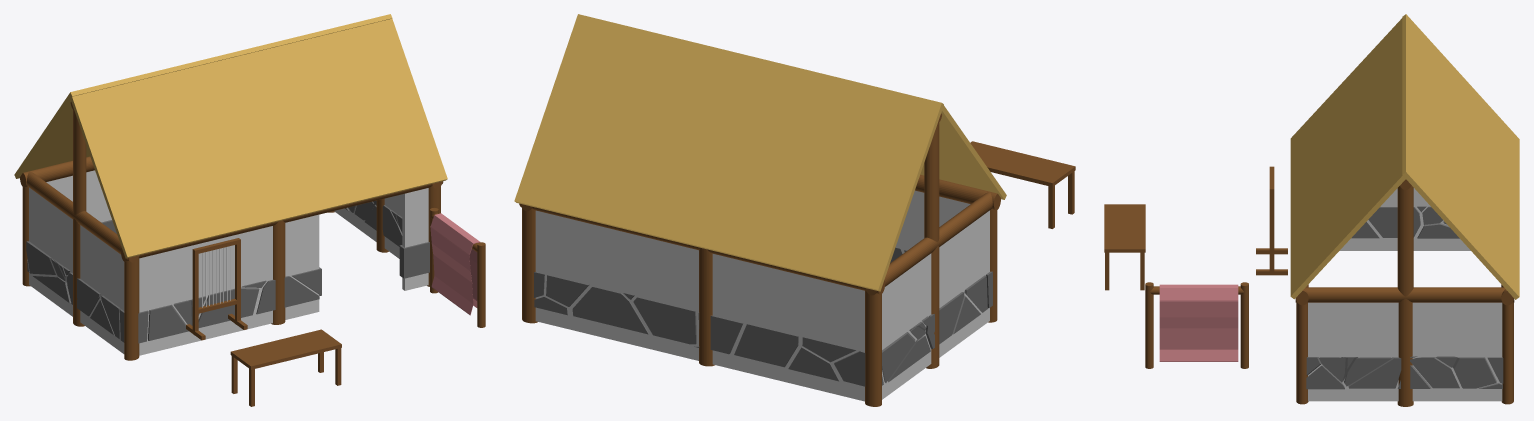
File: Weavery.fbx
The picture shows the model from 3 angles, left to right: view 1: azimuth 30°, elevation 25°; view 2: azimuth 150°, elevation 25°; view 3: azimuth 270°, elevation 25°; orthographic projection. The views are drawn at different scales.
Visible parts, largest first — view 1: Roof, Clay Walls, Stone Walls, Struts, Cloth, Table, Loom, Stand; view 2: Roof, Clay Walls, Stone Walls, Struts, Table; view 3: Roof, Clay Walls, Struts, Stone Walls, Cloth, Table, Stand, Loom.
Part boxes in pixels (x1,y1,x2,y2): Roof: (14, 14, 447, 258); Clay Walls: (29, 170, 428, 355); Stone Walls: (26, 200, 429, 343); Struts: (20, 102, 443, 360); Cloth: (430, 213, 479, 315); Table: (230, 329, 341, 406); Loom: (186, 238, 247, 340); Stand: (430, 208, 485, 327); Roof: (514, 14, 1006, 291); Clay Walls: (535, 190, 989, 401); Stone Walls: (534, 247, 992, 386); Struts: (519, 113, 1000, 406); Table: (970, 141, 1075, 228); Roof: (1290, 14, 1519, 299); Clay Walls: (1308, 188, 1502, 401); Struts: (1295, 179, 1514, 406); Stone Walls: (1306, 206, 1503, 389); Cloth: (1159, 284, 1238, 361); Table: (1104, 204, 1145, 290); Stand: (1145, 282, 1248, 368); Loom: (1256, 166, 1287, 275).
Bounding box in the file's own units: 182 × 127 × 202.
